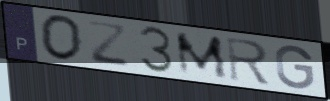3: (136, 25, 176, 75)
G: (274, 44, 316, 91)
M: (173, 31, 231, 81)
O: (38, 13, 85, 63)
R: (224, 35, 272, 87)
Z: (85, 19, 132, 69)
